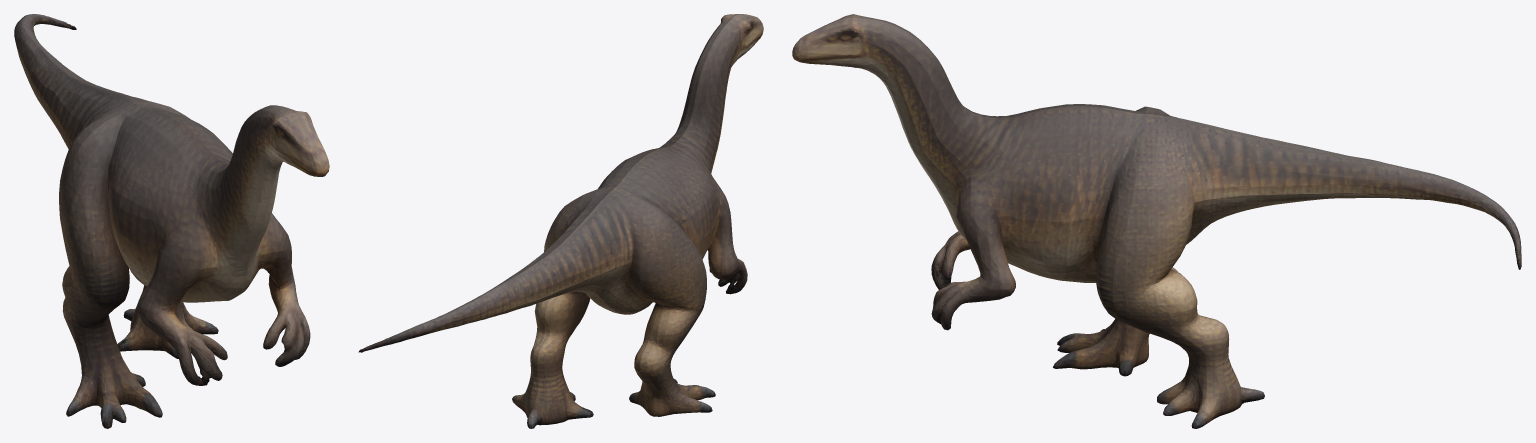
The picture shows the model from 3 angles, left to right: view 1: azimuth 30°, elevation 25°; view 2: azimuth 150°, elevation 25°; view 3: azimuth 270°, elevation 25°; orthographic projection. The views are drawn at different scales.
Visible parts, largest first — view 1: world; view 2: world; view 3: world.
Part boxes in pixels (bbox=[...]): world: bbox=[14, 14, 329, 428]; world: bbox=[358, 14, 763, 428]; world: bbox=[792, 14, 1521, 428].
Bounding box in the file's own units: 0.3472 × 0.5543 × 1.
1 material, 1 textured.
